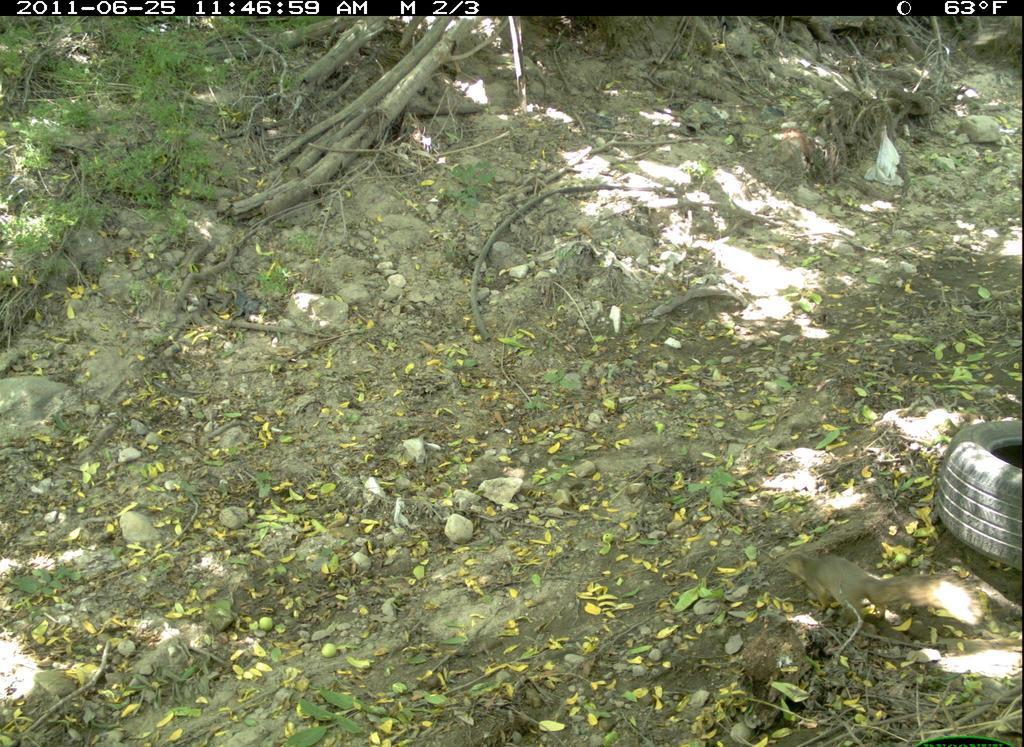squirrel: (772, 546, 995, 638)
